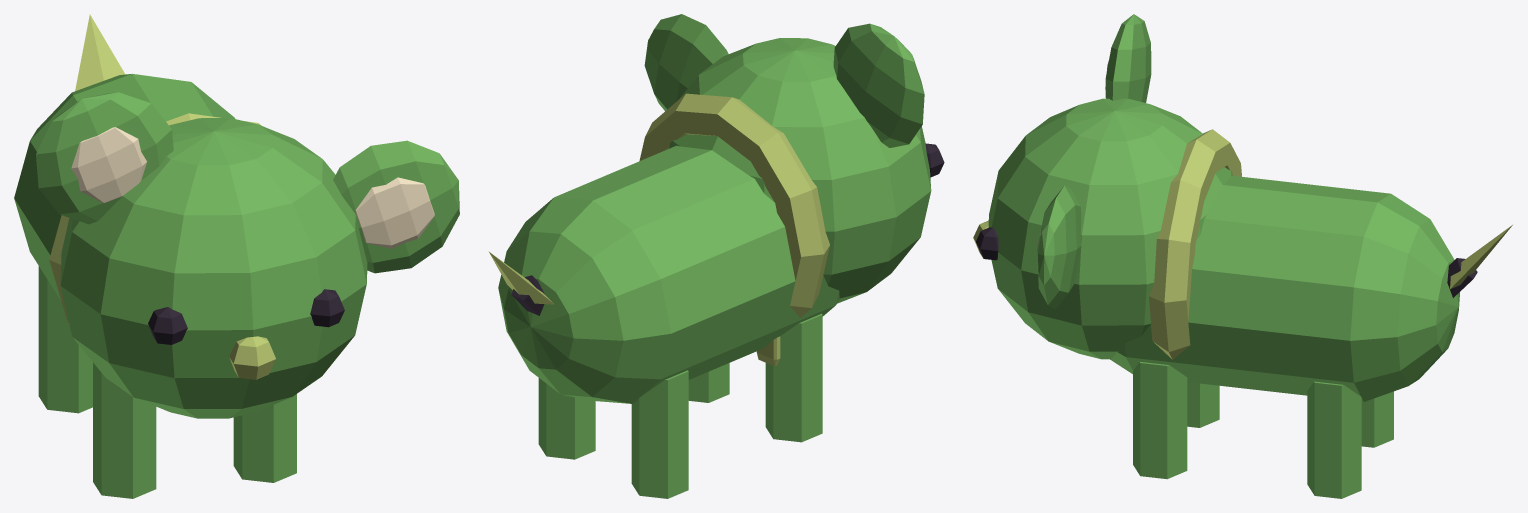
File: bean-city-1.glb
3 views of the same model, side by side, from view 1: azimuth 30°, elevation 25°; view 2: azimuth 150°, elevation 25°; view 3: azimuth 270°, elevation 25° (orthographic). The views are drawn at different scales.
Visible parts, largest first — view 1: bean-city-1; view 2: bean-city-1; view 3: bean-city-1.
Part boxes in pixels (x1,y1,x2,y2): bean-city-1: (14, 14, 459, 498); bean-city-1: (488, 14, 944, 498); bean-city-1: (973, 14, 1512, 498).
Size of the model in its own units: 0.6186 by 0.7 by 0.9205.
